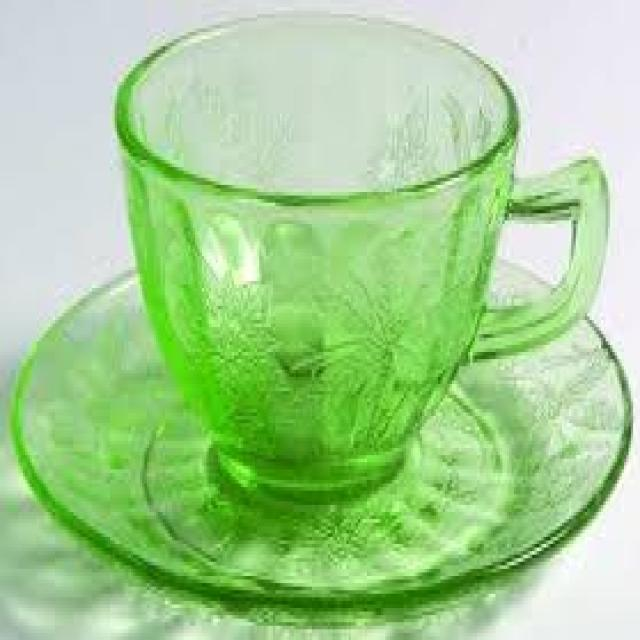glass: (113, 7, 606, 494), (9, 242, 629, 615)
